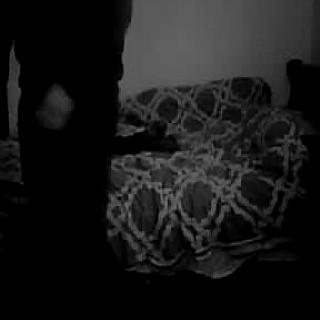Navy Sweatpants: (19, 94, 120, 320)
